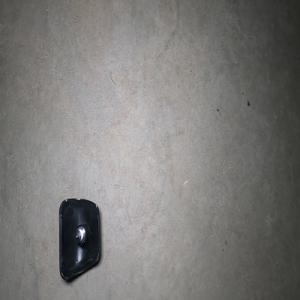LuggagePart: (58, 197, 101, 282)
